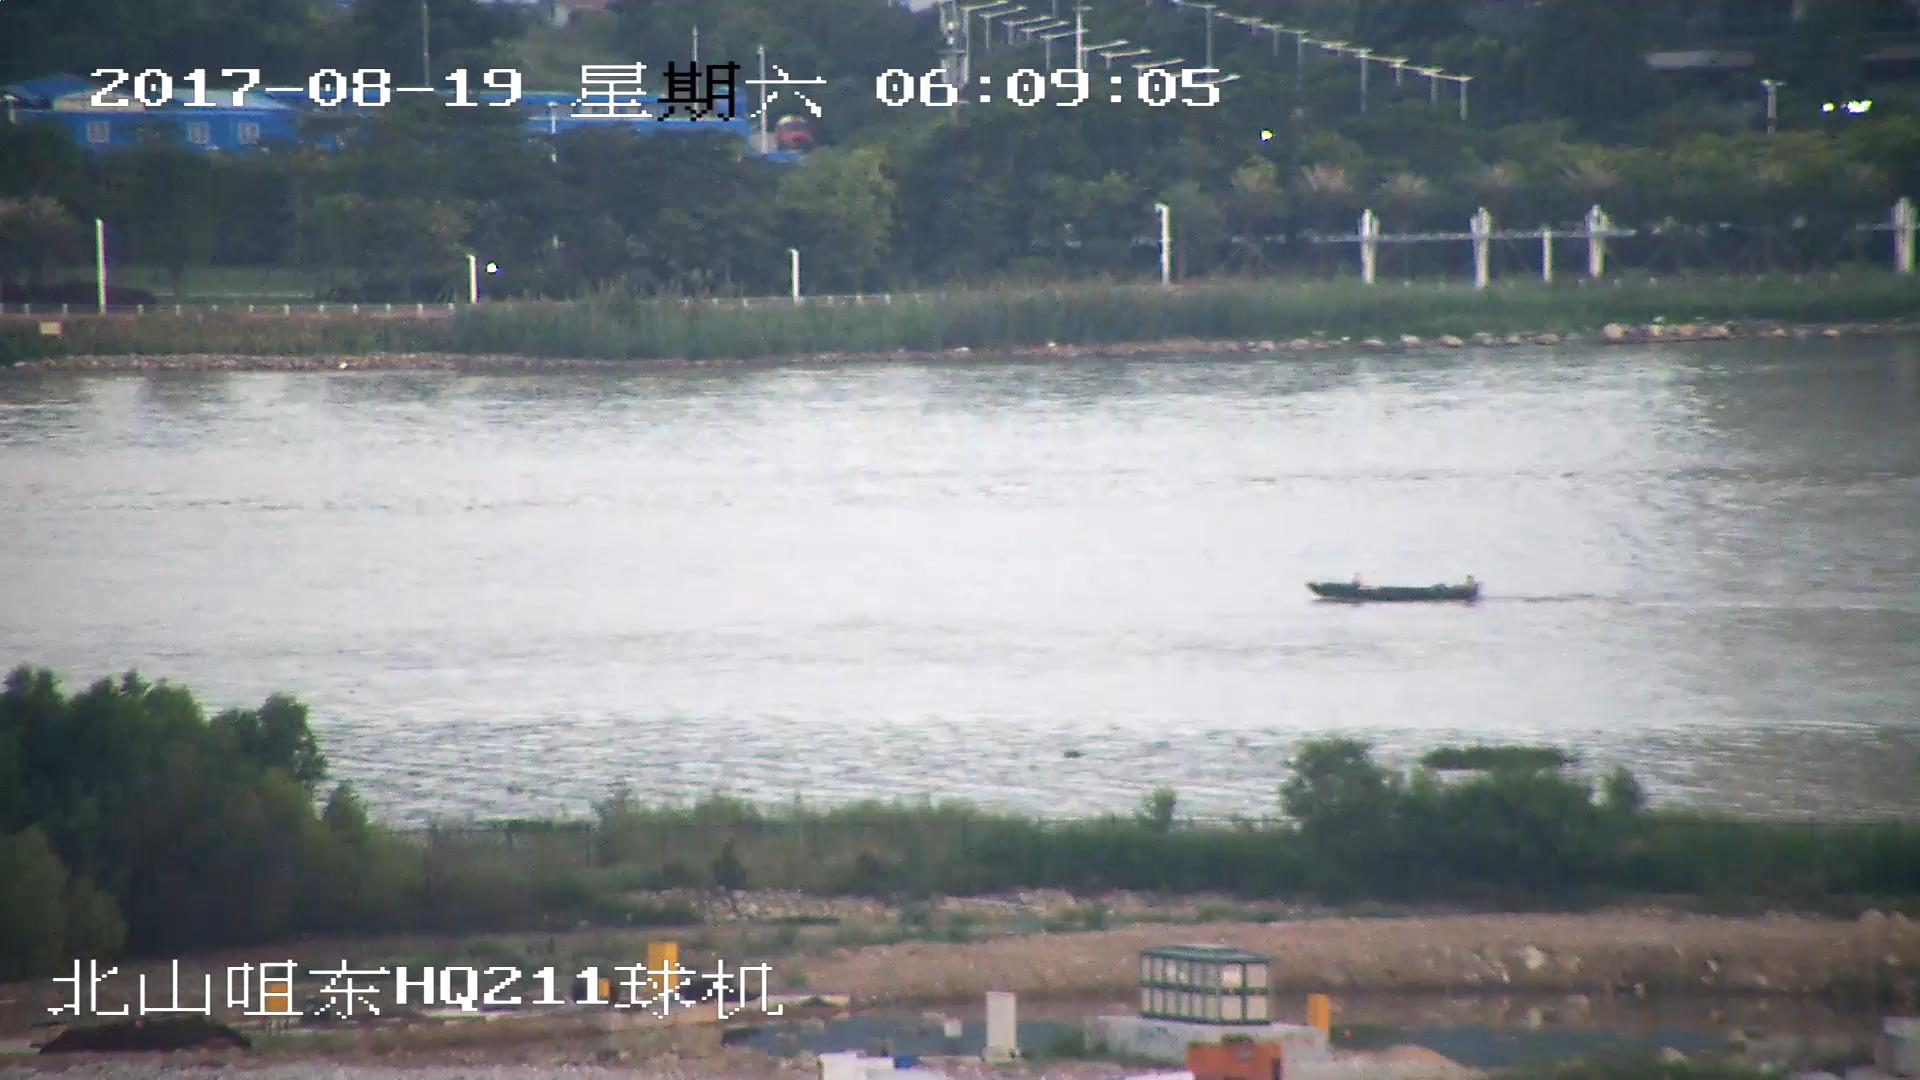fishing boat: (1308, 573, 1480, 606)
